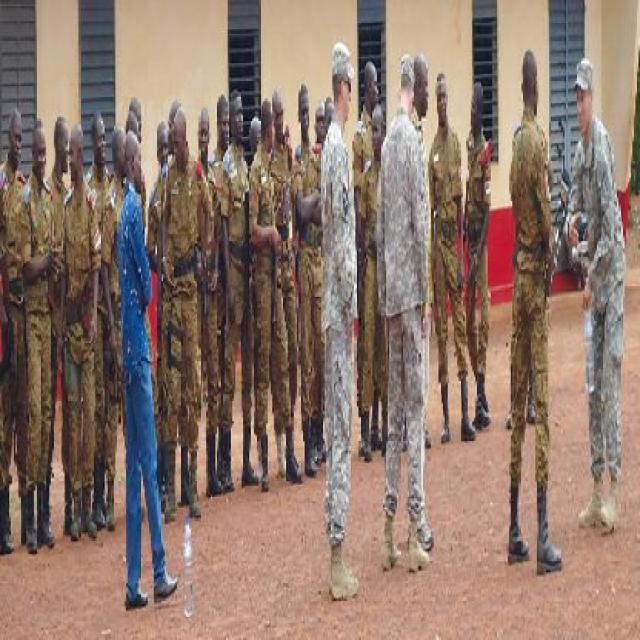Person: (0, 32, 626, 616)
